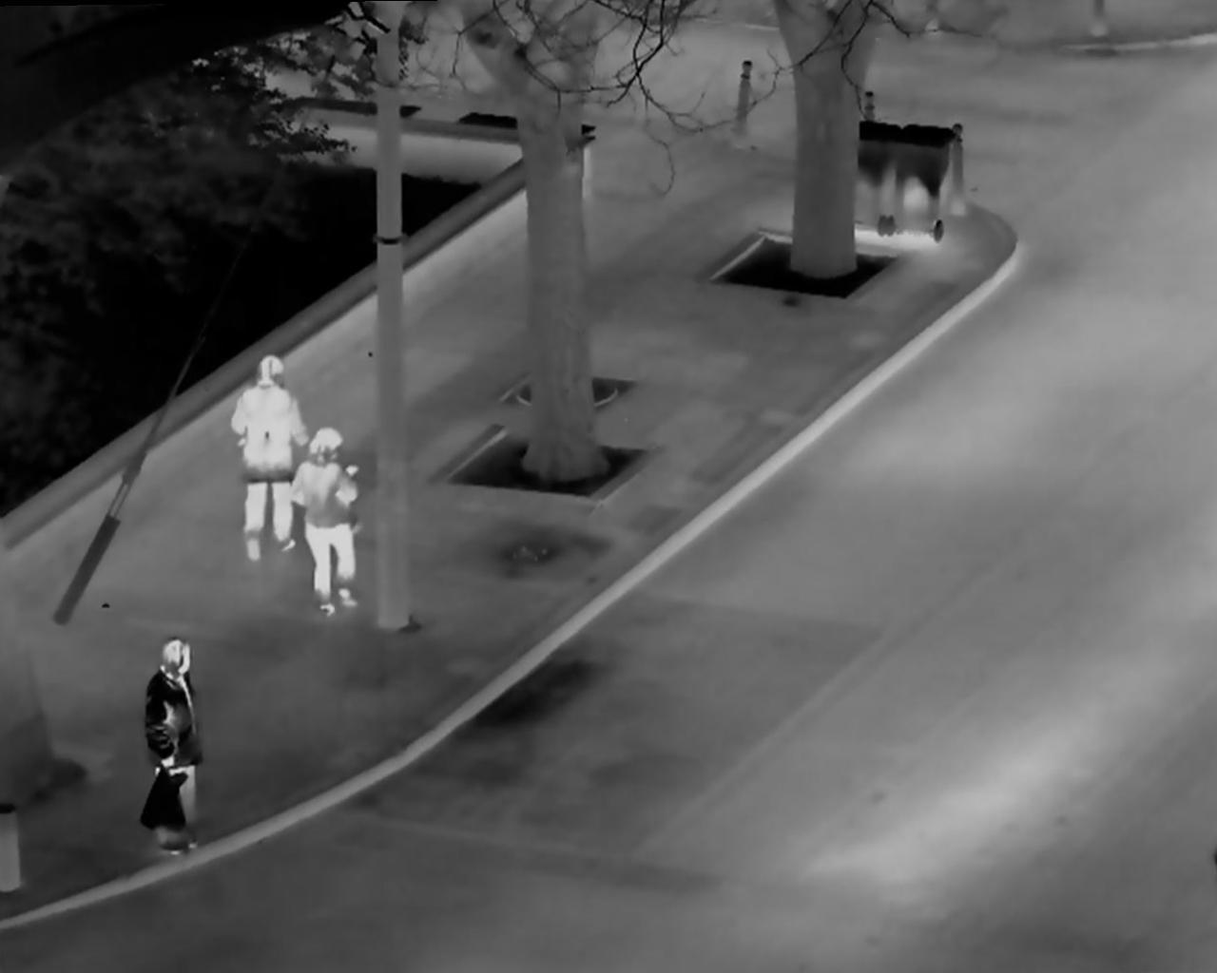person: (132, 622, 217, 861), (294, 424, 373, 621), (226, 344, 297, 549)
